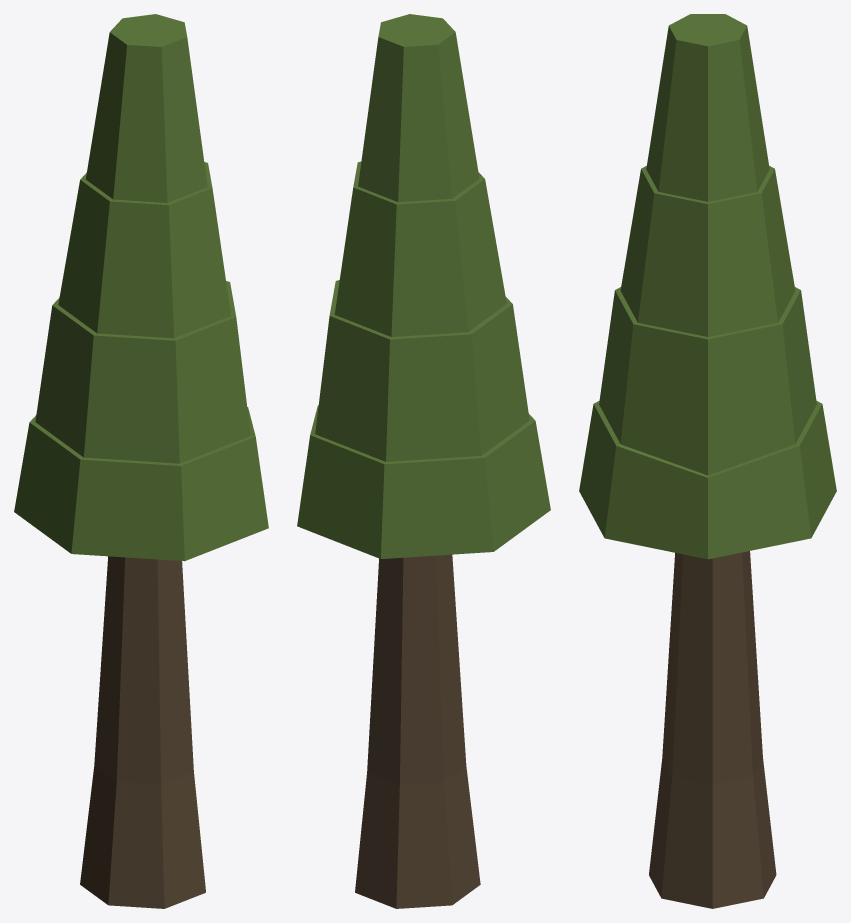
Rendered from Tree1.fbx.
The picture shows the model from 3 angles, left to right: view 1: azimuth 30°, elevation 25°; view 2: azimuth 150°, elevation 25°; view 3: azimuth 270°, elevation 25°; orthographic projection.
Parts seen in each view (by area): view 1: Tree1; view 2: Tree1; view 3: Tree1.
Part boxes in pixels (box(x1,y1,x2,y2)): Tree1: box(14, 14, 268, 908); Tree1: box(297, 14, 550, 908); Tree1: box(579, 14, 836, 908).
Size of the model in its own units: 2.4 by 8.97 by 2.46.
